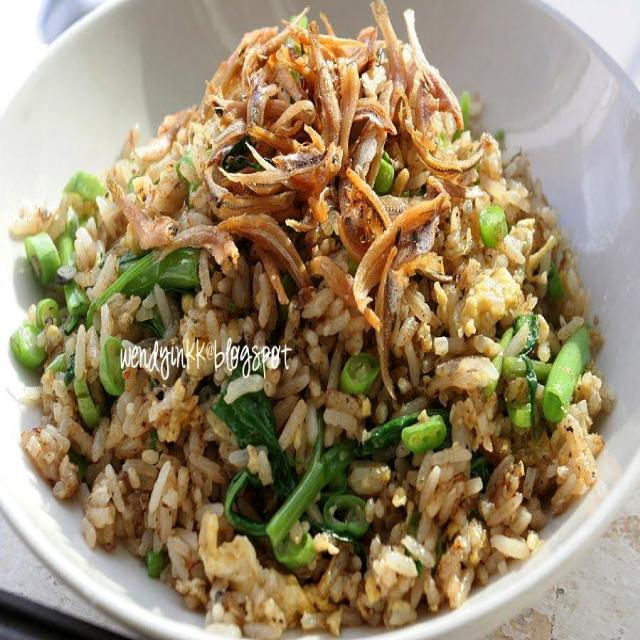Nasi Goreng: (10, 2, 612, 635)
